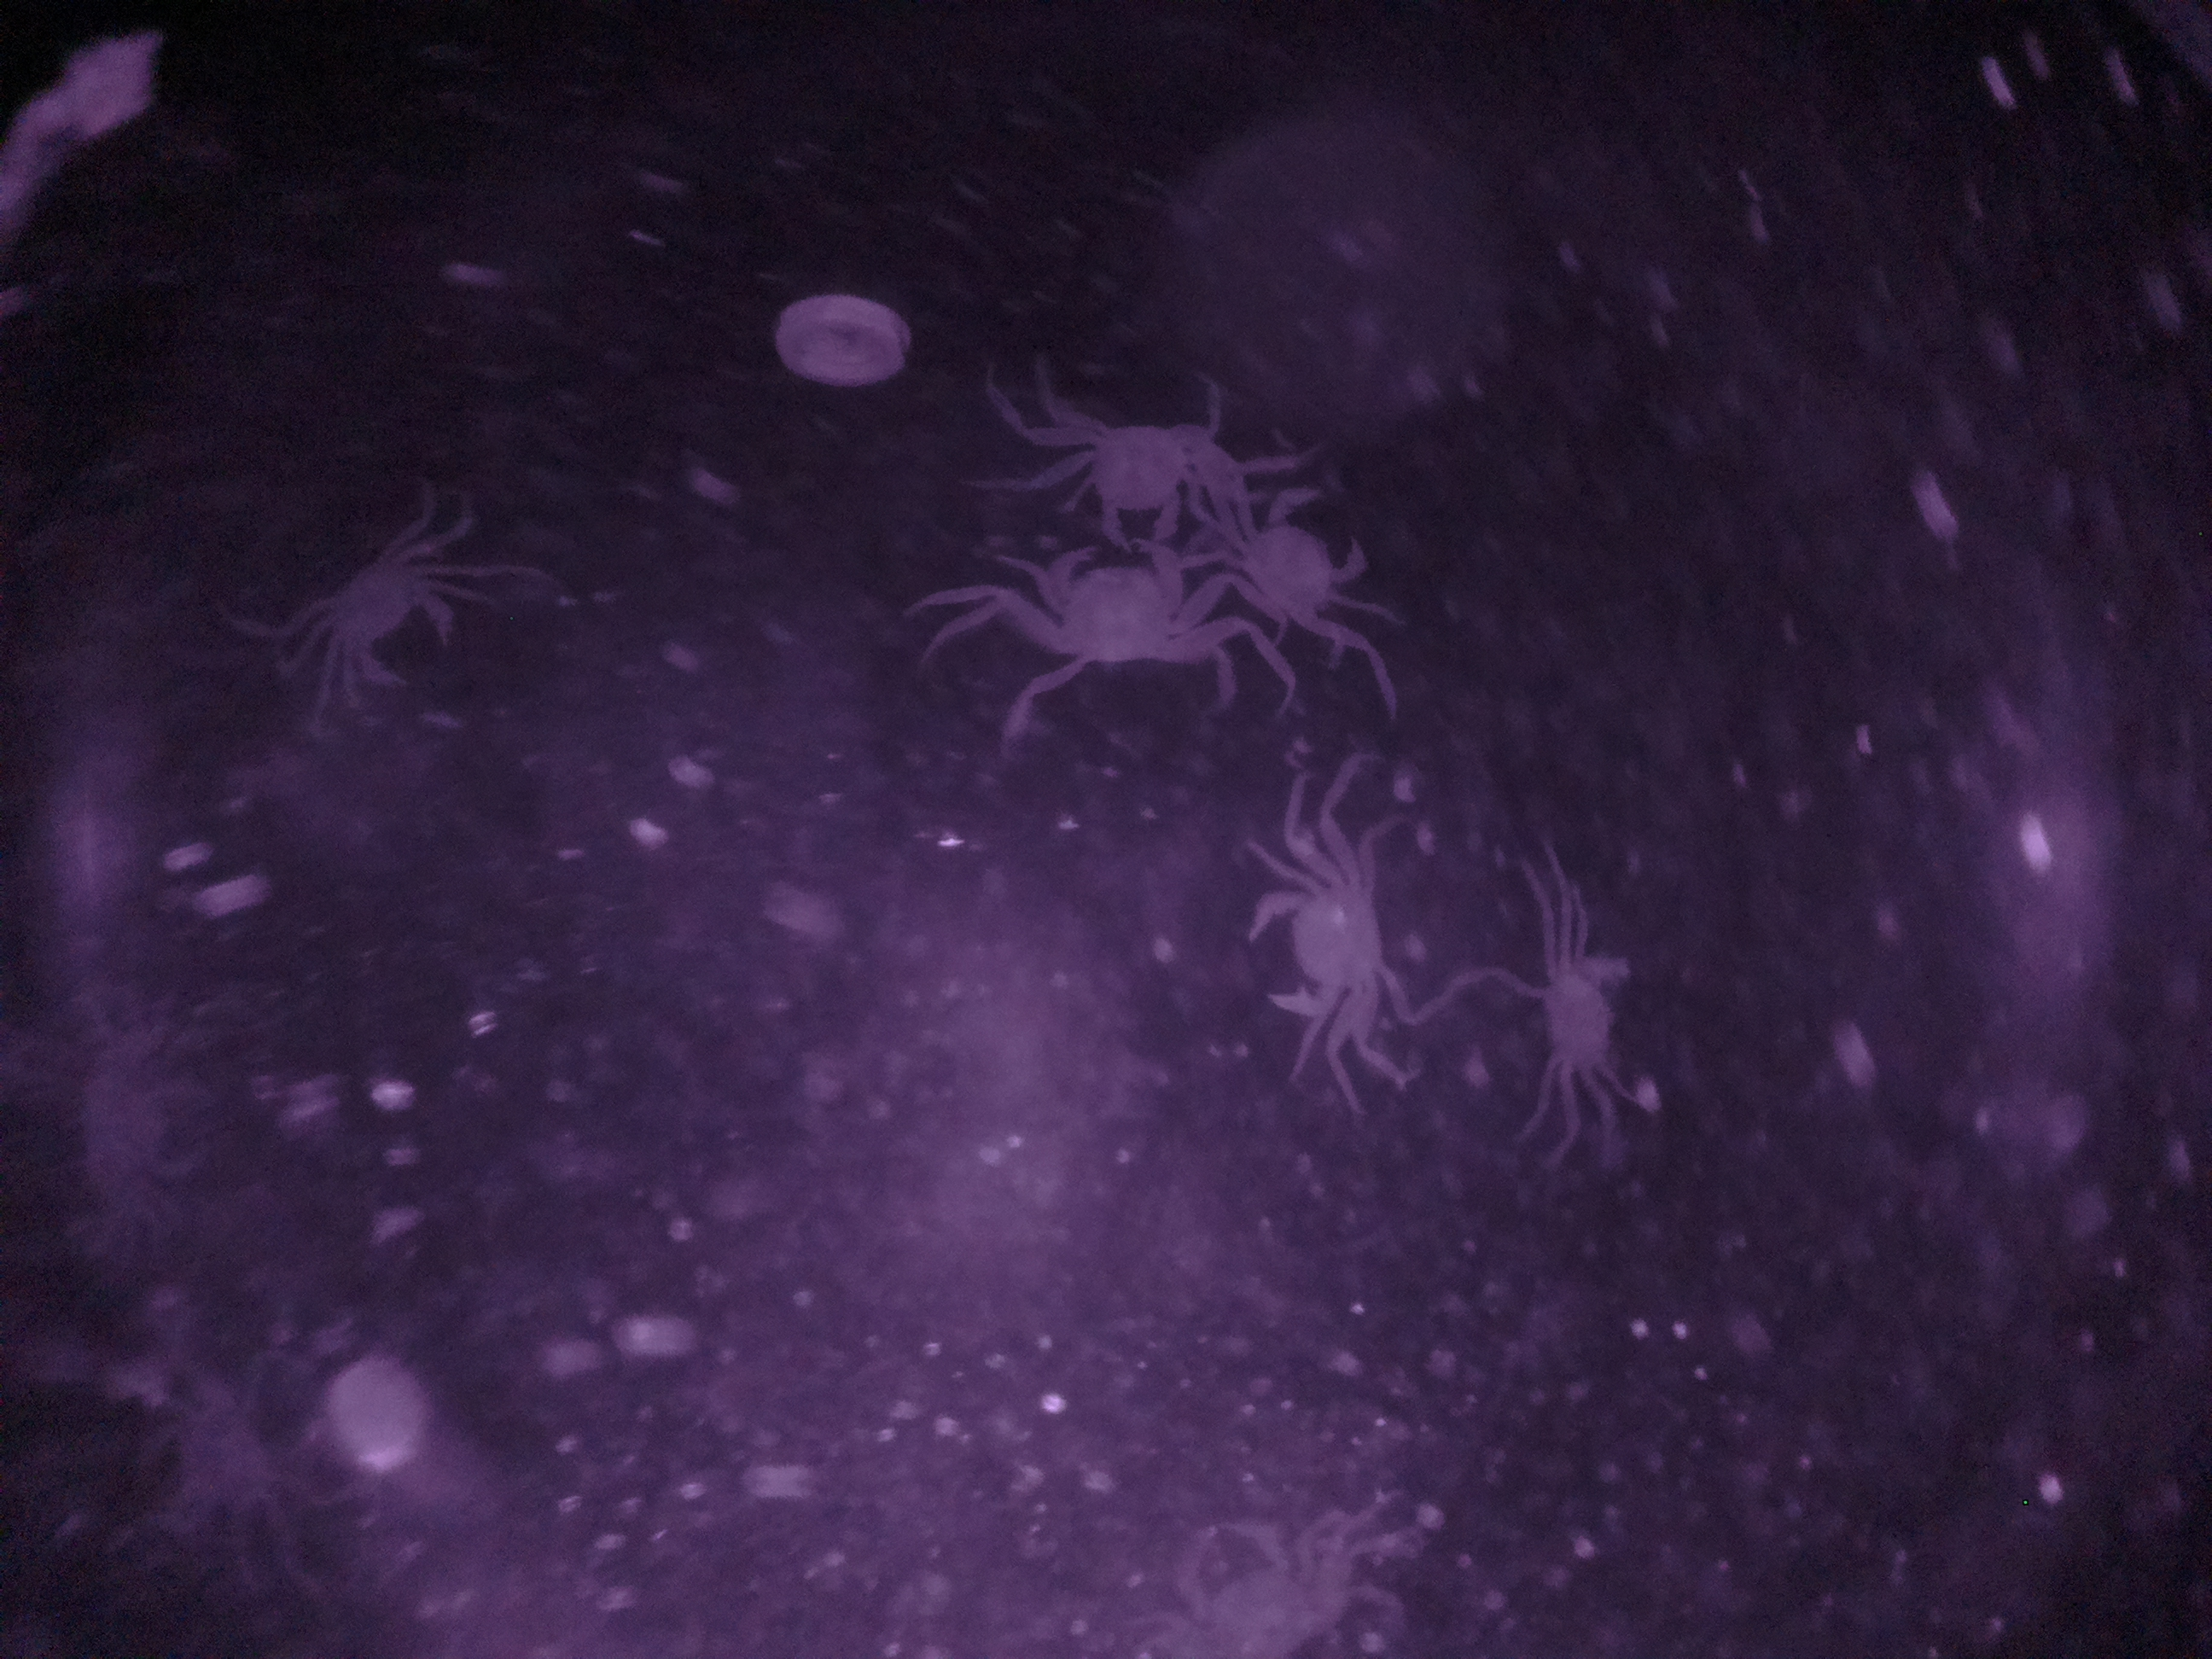Crab: (1228, 835, 1404, 1047), (300, 516, 482, 711), (1003, 532, 1209, 702), (1021, 397, 1228, 552), (1231, 467, 1379, 650), (1521, 918, 1658, 1112)
